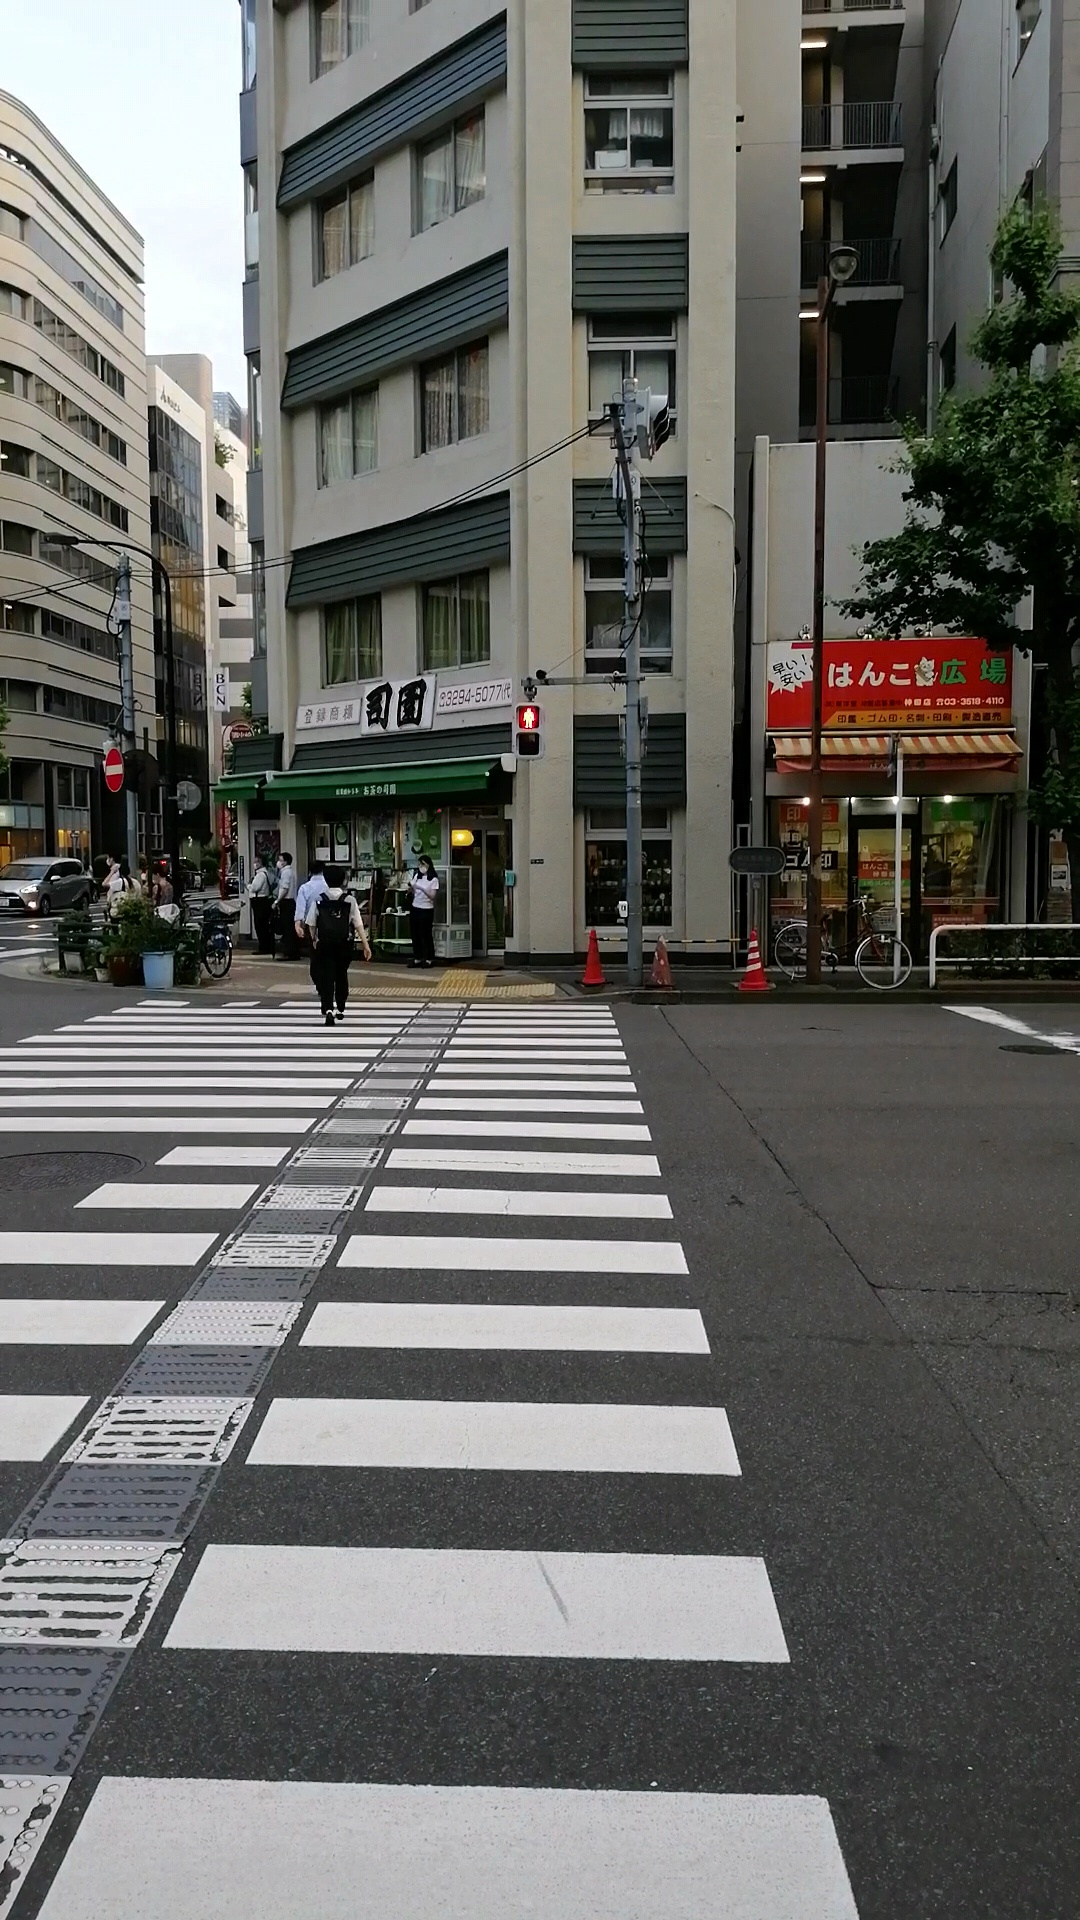red: (513, 702, 545, 760)
